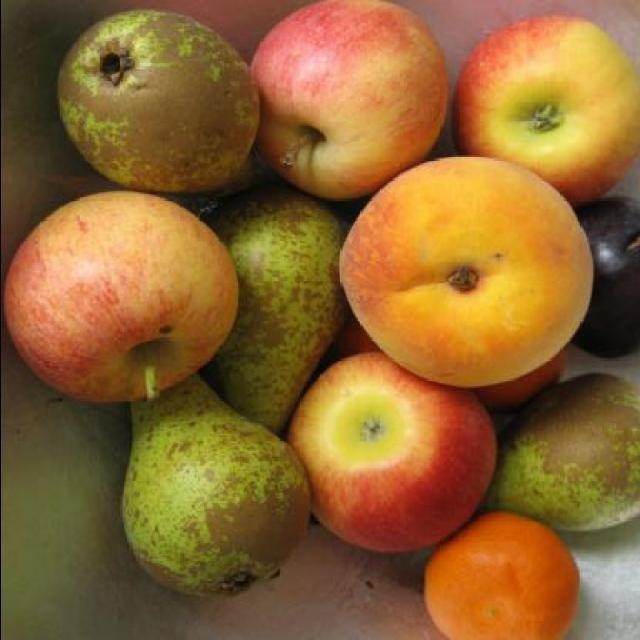Peach: (336, 154, 592, 388)
